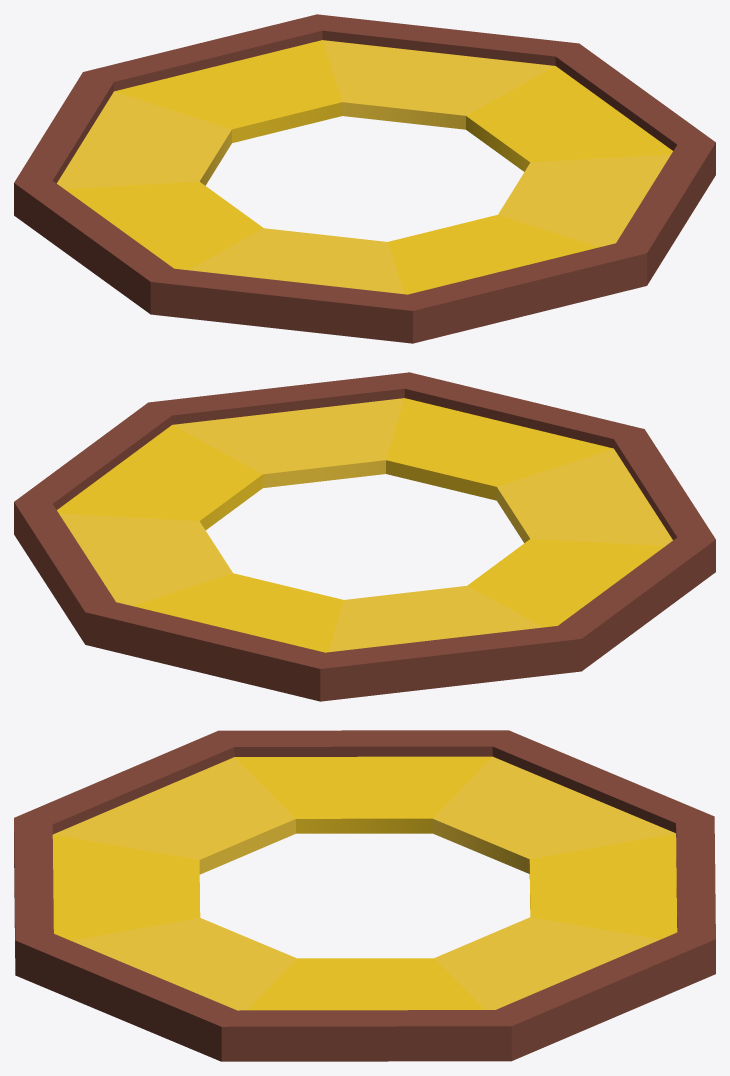
Rendered from Pineapple.FBX.
3 views of the same model, one above another, from view 1: azimuth 30°, elevation 25°; view 2: azimuth 150°, elevation 25°; view 3: azimuth 270°, elevation 25° (orthographic). The views are drawn at different scales.
Parts seen in each view (by area): view 1: Lemon001; view 2: Lemon001; view 3: Lemon001.
Part boxes in pixels (box(x1,y1,x2,y2)): Lemon001: box(14, 14, 715, 343); Lemon001: box(14, 372, 715, 701); Lemon001: box(14, 730, 715, 1061).
Bounding box in the file's own units: 9.09 × 9.09 × 0.5.
